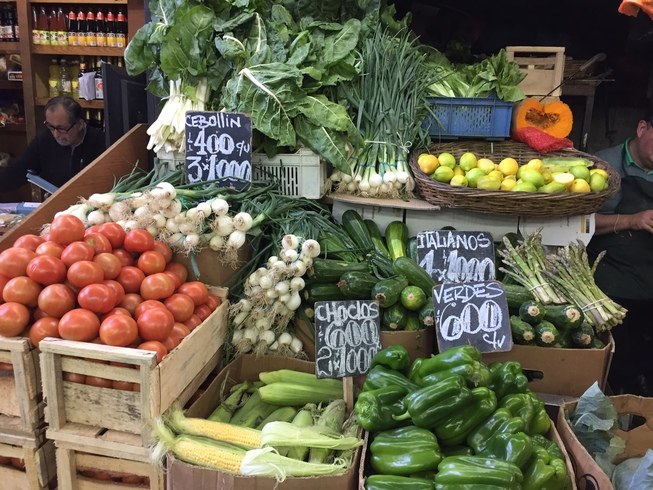precio: (185, 107, 259, 198), (434, 280, 517, 359), (415, 228, 503, 295), (312, 299, 385, 379)
